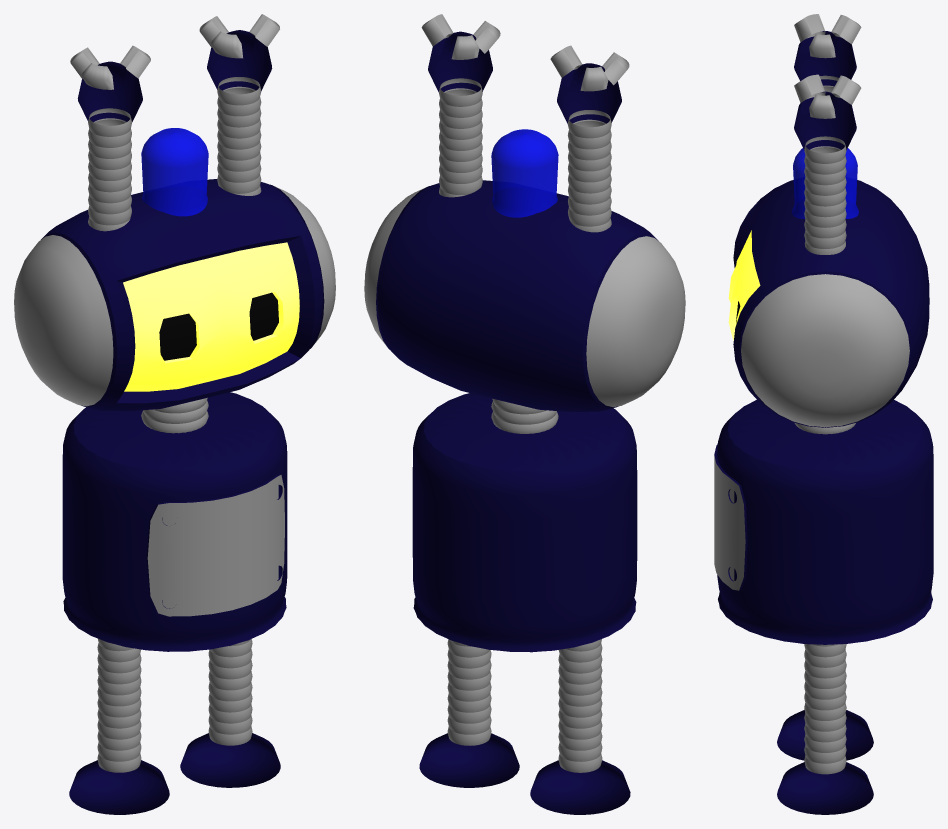
The model's file is BlueRobot.fbx.
The picture shows the model from 3 angles, left to right: view 1: azimuth 30°, elevation 25°; view 2: azimuth 150°, elevation 25°; view 3: azimuth 270°, elevation 25°; orthographic projection. The views are drawn at different scales.
Parts seen in each view (by area): view 1: Sphere, Cylinder, Circle.003, Circle.004, Circle.005, Circle.001, Circle.007, Circle.002, Circle.006, Circle; view 2: Sphere, Cylinder, Circle.003, Circle.004, Circle.005, Circle.001, Circle.007, Circle.006, Circle.002, Circle; view 3: Cylinder, Sphere, Circle.004, Circle.003, Circle.007, Circle.006, Circle.002, Circle.005.
Boxes of the visible parts, x1,y1,x2,y2 form: Sphere: [14, 179, 335, 411]; Cylinder: [62, 392, 287, 651]; Circle.003: [97, 638, 252, 772]; Circle.004: [69, 733, 280, 814]; Circle.005: [141, 128, 208, 216]; Circle.001: [88, 108, 131, 231]; Circle.007: [217, 77, 261, 195]; Circle.002: [70, 45, 150, 122]; Circle.006: [199, 14, 279, 91]; Circle: [141, 397, 208, 433]; Sphere: [364, 180, 685, 412]; Cylinder: [412, 393, 637, 652]; Circle.003: [447, 639, 602, 772]; Circle.004: [419, 733, 630, 814]; Circle.005: [491, 129, 558, 217]; Circle.001: [567, 110, 611, 232]; Circle.007: [439, 78, 482, 197]; Circle.006: [421, 14, 500, 92]; Circle.002: [550, 45, 629, 123]; Circle: [491, 398, 558, 433]; Cylinder: [714, 400, 933, 644]; Sphere: [728, 180, 929, 427]; Circle.004: [777, 710, 873, 814]; Circle.003: [804, 644, 846, 774]; Circle.007: [804, 136, 846, 254]; Circle.006: [794, 74, 861, 150]; Circle.002: [794, 14, 861, 86]; Circle.005: [791, 148, 858, 218].
Bounding box in the file's own units: 245 × 348 × 879.
